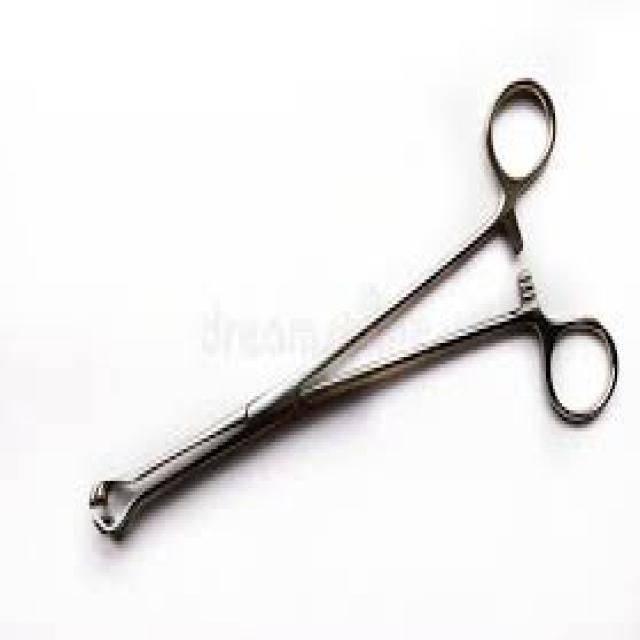Artery Forceps: (74, 62, 624, 552)
